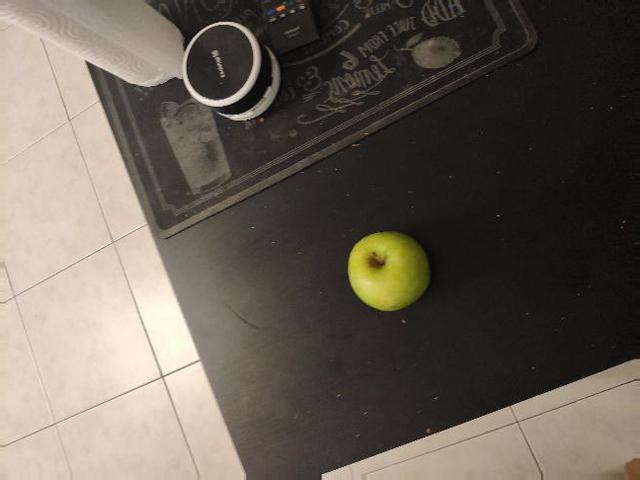apple: (153, 328, 263, 448)
